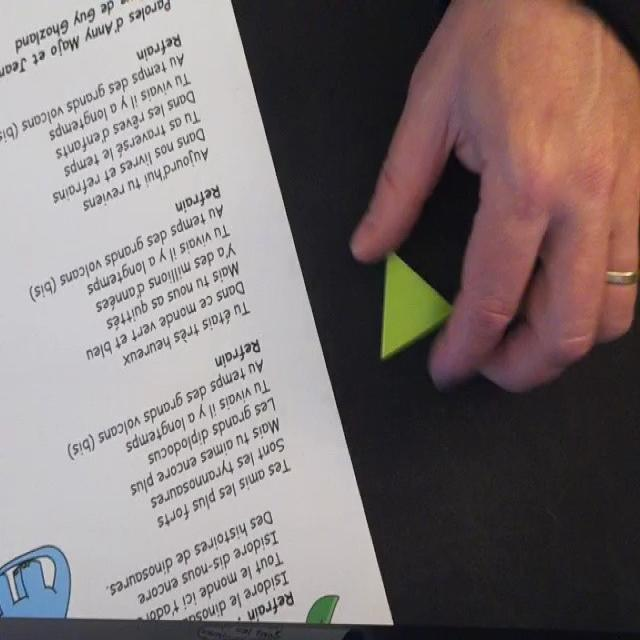triangle: (378, 247, 459, 362)
